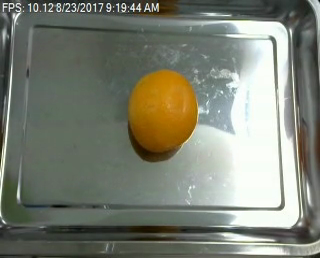Orange: (128, 69, 198, 154)
